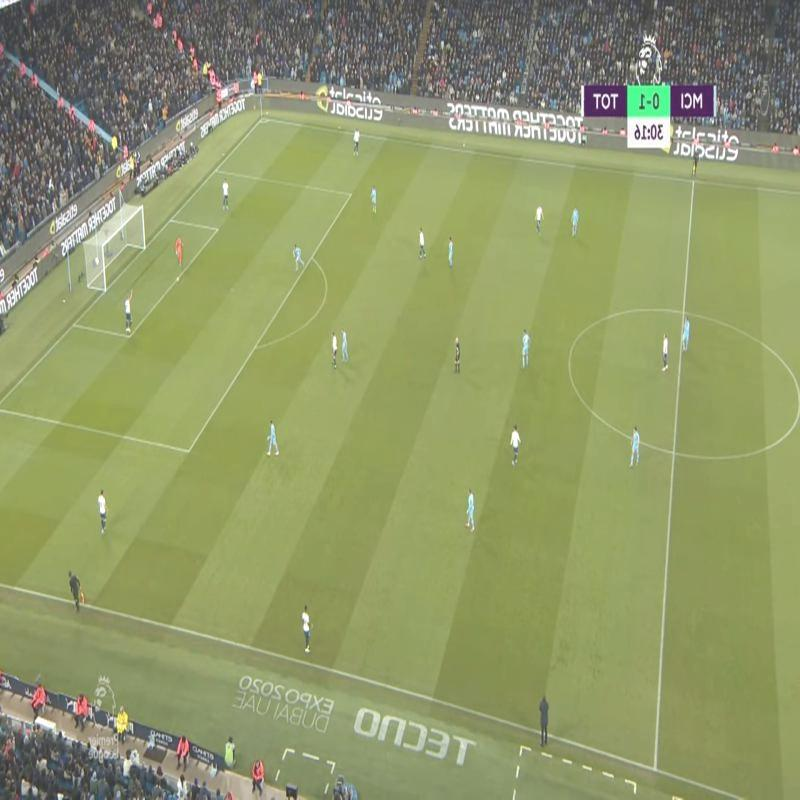1: (254, 112, 270, 126)
10: (306, 251, 320, 266)
11: (246, 340, 262, 356)
12: (180, 442, 196, 458)
13: (688, 172, 704, 187)
14: (675, 304, 692, 320)
15: (666, 442, 684, 460)
16: (647, 759, 664, 779)
2: (208, 164, 222, 178)
3: (160, 214, 176, 231)
4: (64, 316, 80, 334)
7: (212, 222, 226, 234)
8: (122, 326, 137, 342)
9: (345, 187, 358, 201)
c: (562, 348, 578, 364)
